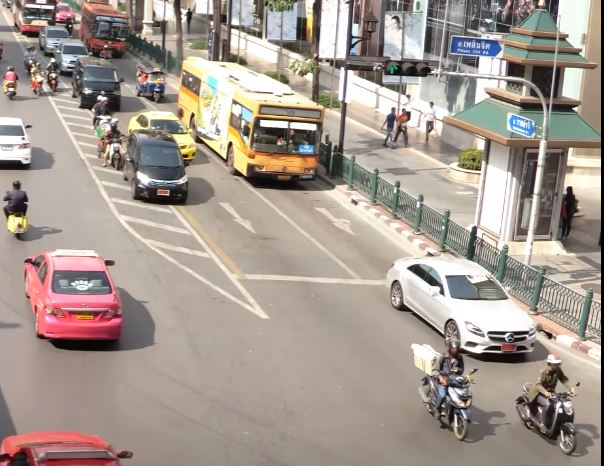Bus: (174, 54, 326, 184), (79, 2, 128, 59), (12, 1, 54, 35)
Car: (386, 255, 542, 359), (23, 247, 123, 347), (123, 129, 189, 204), (128, 109, 197, 164), (71, 55, 123, 112), (1, 115, 33, 171), (54, 39, 91, 71), (38, 26, 70, 52), (54, 3, 77, 22)
Motorcycle: (409, 338, 480, 440), (516, 353, 581, 454), (2, 178, 31, 241), (97, 117, 127, 171), (91, 93, 111, 131), (2, 65, 20, 101), (29, 62, 45, 97), (46, 57, 59, 93), (22, 43, 36, 73)
TukTuk: (133, 61, 167, 103)
